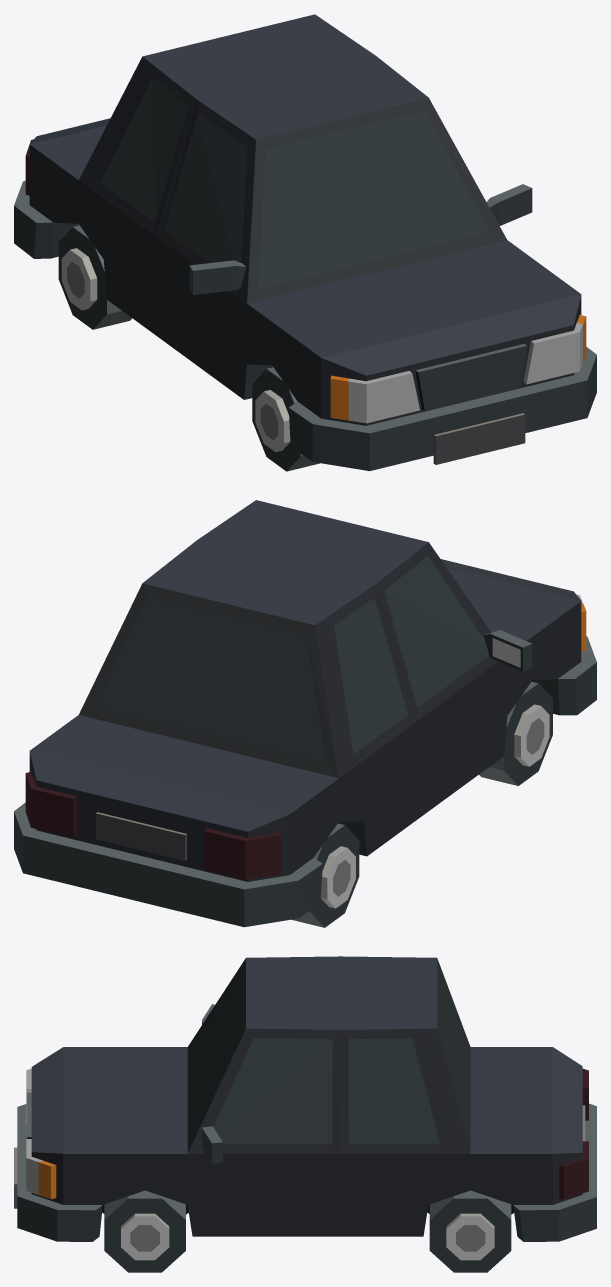
Rendered from TB_CITY_Car_Big_B.FBX.
The picture shows the model from 3 angles, top to bottom: view 1: azimuth 30°, elevation 25°; view 2: azimuth 150°, elevation 25°; view 3: azimuth 270°, elevation 25°; orthographic projection. The views are drawn at different scales.
Parts seen in each view (by area): view 1: TB_CITY_Car_Big_B, TB_Car_Big_Wheel005, TB_Car_Big_Wheel008; view 2: TB_CITY_Car_Big_B, TB_Car_Big_Wheel008, TB_Car_Big_Wheel005; view 3: TB_CITY_Car_Big_B, TB_Car_Big_Wheel007, TB_Car_Big_Wheel006.
Part boxes in pixels (<box>): TB_CITY_Car_Big_B: <box>14,14,596,471</box>; TB_Car_Big_Wheel005: <box>58,225,132,329</box>; TB_Car_Big_Wheel008: <box>252,367,319,471</box>; TB_CITY_Car_Big_B: <box>14,500,596,927</box>; TB_Car_Big_Wheel008: <box>479,681,552,785</box>; TB_Car_Big_Wheel005: <box>291,823,359,927</box>; TB_CITY_Car_Big_B: <box>14,956,596,1241</box>; TB_Car_Big_Wheel007: <box>429,1190,511,1272</box>; TB_Car_Big_Wheel006: <box>104,1190,185,1272</box>.
Size of the model in its own units: 3.91 by 2.98 by 6.92.
